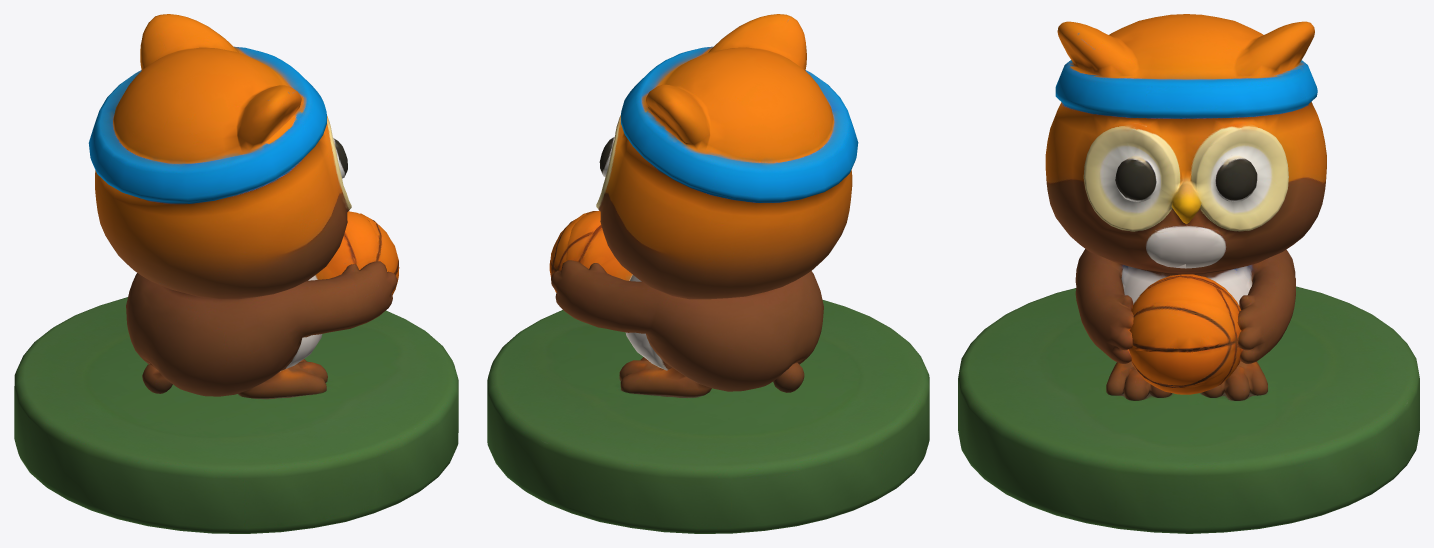
The model's file is BasketballOwl_1b75c2f3.glb.
3 renders of one model, left to right at view 1: azimuth 30°, elevation 25°; view 2: azimuth 150°, elevation 25°; view 3: azimuth 270°, elevation 25°, orthographic. The views are drawn at different scales.
Parts seen in each view (by area): view 1: tripo_node_bfa7e04b-f669-4b10-bb4e-0a901b75c2f3; view 2: tripo_node_bfa7e04b-f669-4b10-bb4e-0a901b75c2f3; view 3: tripo_node_bfa7e04b-f669-4b10-bb4e-0a901b75c2f3.
Part boxes in pixels (x1,y1,x2,y2): tripo_node_bfa7e04b-f669-4b10-bb4e-0a901b75c2f3: (14, 14, 458, 533); tripo_node_bfa7e04b-f669-4b10-bb4e-0a901b75c2f3: (487, 14, 929, 533); tripo_node_bfa7e04b-f669-4b10-bb4e-0a901b75c2f3: (958, 14, 1419, 533).
Bounding box in the file's own units: 0.998 × 0.9746 × 0.998.
1 material, 1 textured.
